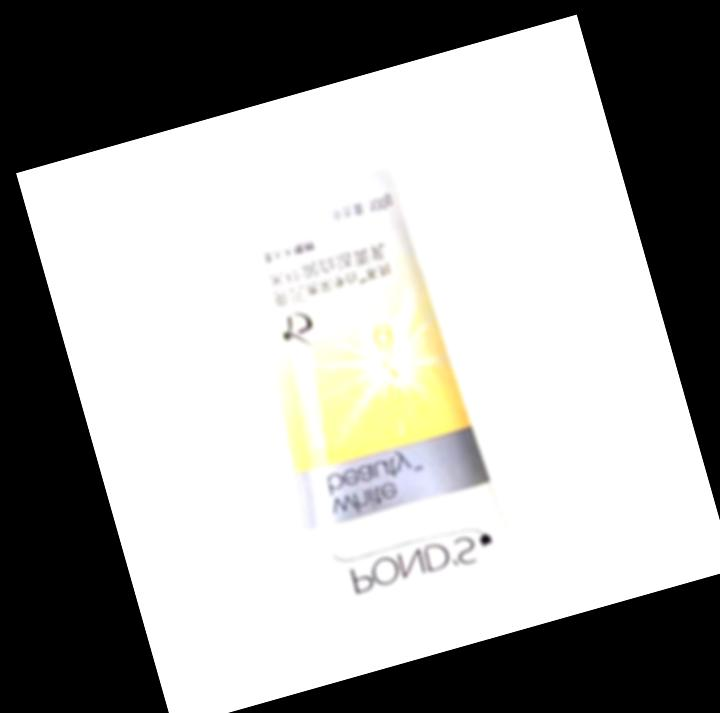cosmetic: (180, 87, 537, 658)
